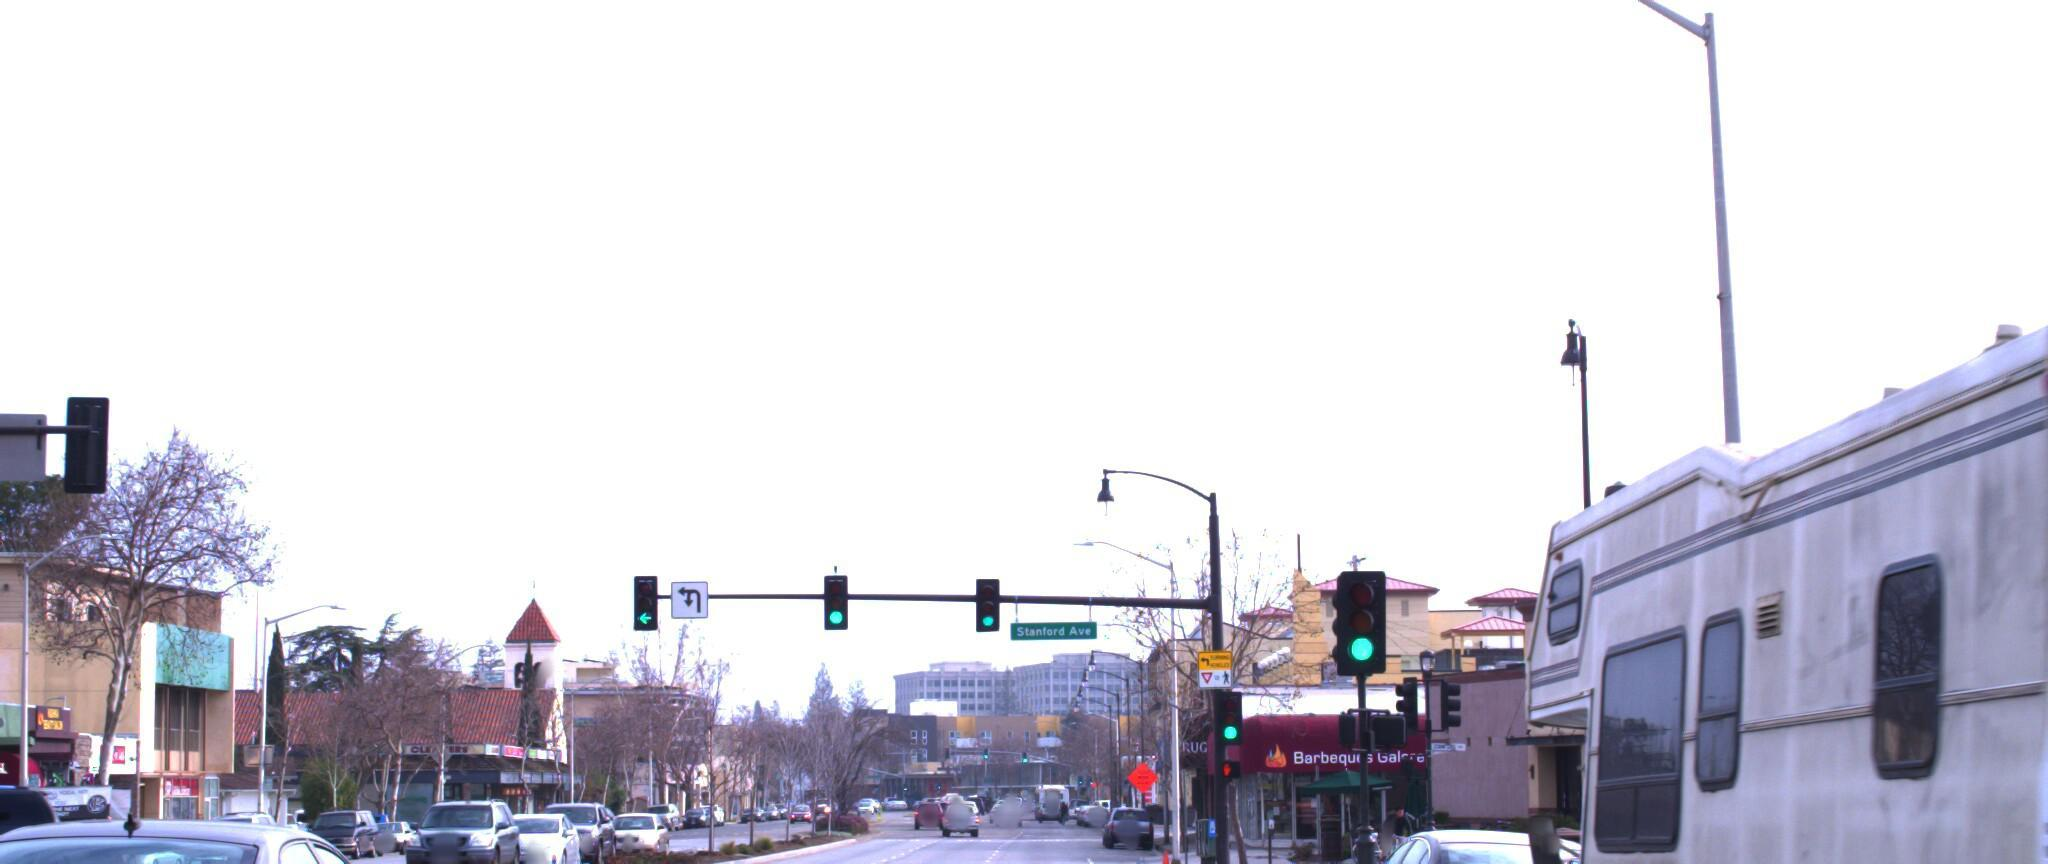car: (0, 788, 488, 864), (1424, 818, 1927, 864), (1311, 799, 1657, 864), (0, 739, 174, 861), (398, 773, 533, 861), (0, 765, 78, 864)
other_vehicle: (1479, 115, 2048, 864)
